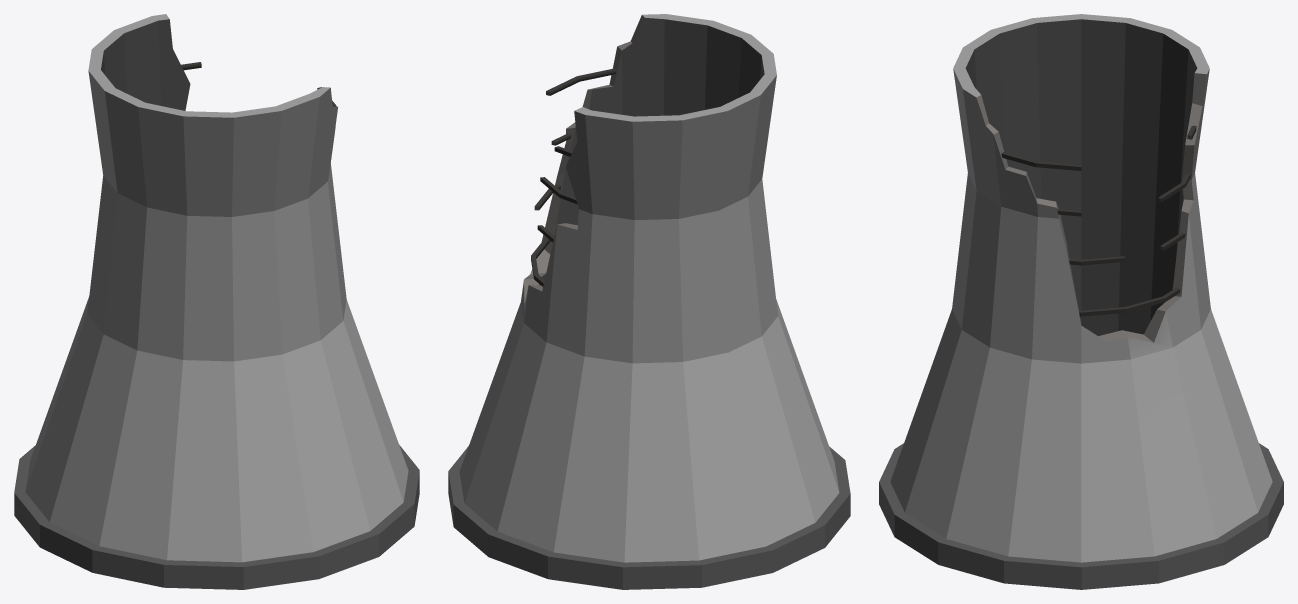
The model's file is SA_Bld_CoolingTowerLarge_Damaged_01.gltf.
3 renders of one model, left to right at view 1: azimuth 30°, elevation 25°; view 2: azimuth 150°, elevation 25°; view 3: azimuth 270°, elevation 25°, orthographic.
Visible parts, largest first — view 1: SA_Bld_CoolingTowerLarge_Damaged_01; view 2: SA_Bld_CoolingTowerLarge_Damaged_01; view 3: SA_Bld_CoolingTowerLarge_Damaged_01.
Boxes of the visible parts, x1,y1,x2,y2 form: SA_Bld_CoolingTowerLarge_Damaged_01: [14, 14, 419, 589]; SA_Bld_CoolingTowerLarge_Damaged_01: [448, 14, 850, 589]; SA_Bld_CoolingTowerLarge_Damaged_01: [879, 14, 1283, 589].
Size of the model in its own units: 51.7 by 61.47 by 51.7.
Materials: 1 (1 with a texture image).
